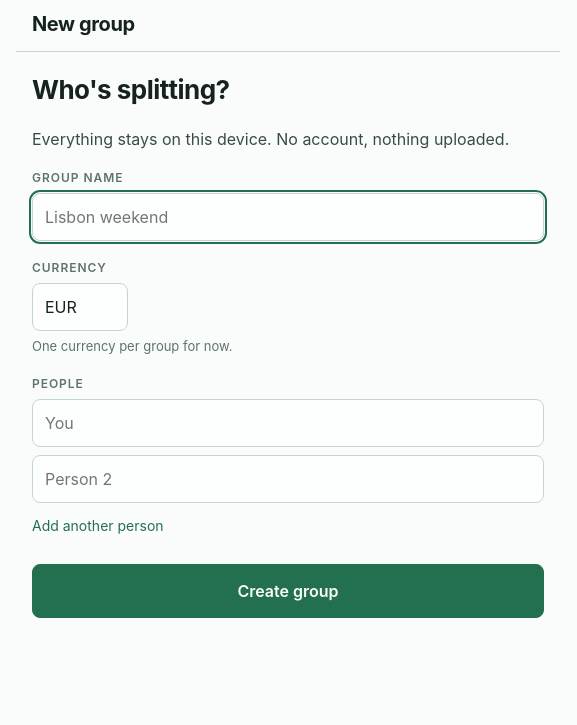
Test case: first launch › refuses an unnamed group and says why
Click the button "Create group" at (288, 590), box [32,564,544,618]
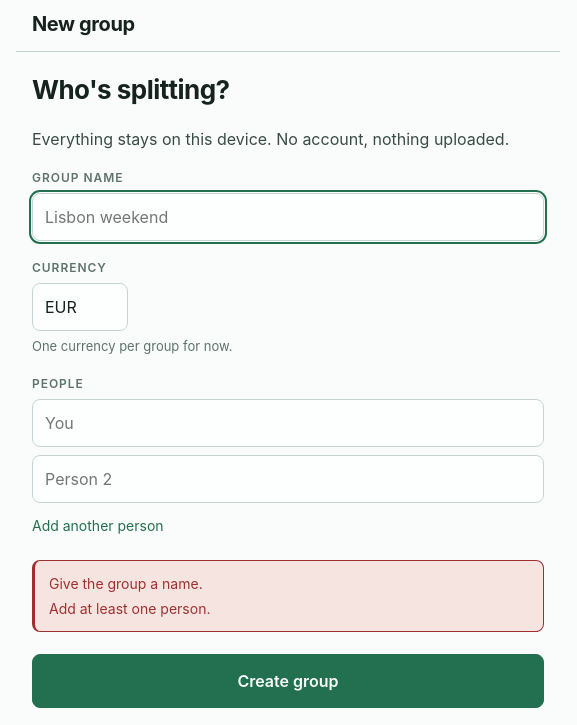
Check: the message shows "Give the group a name", box [49,574,203,592]
